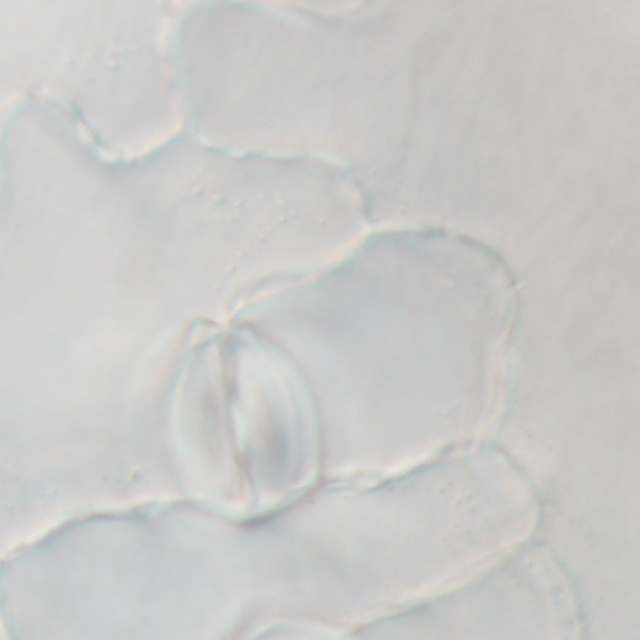center: (215, 378, 270, 474)
stomata-huw1: (166, 325, 321, 523)
